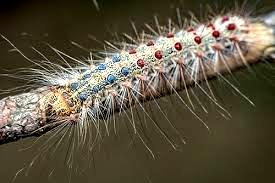Caterpillar: (38, 3, 256, 146)
